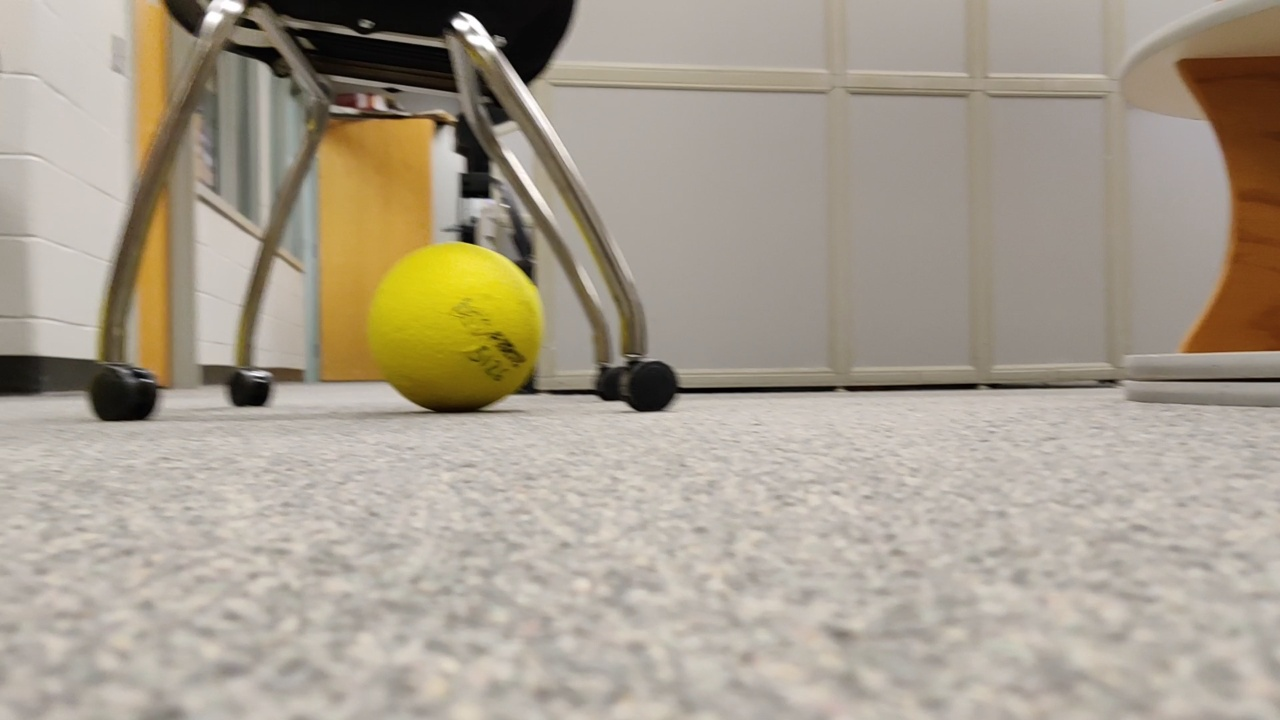Ball: (368, 240, 541, 421)
